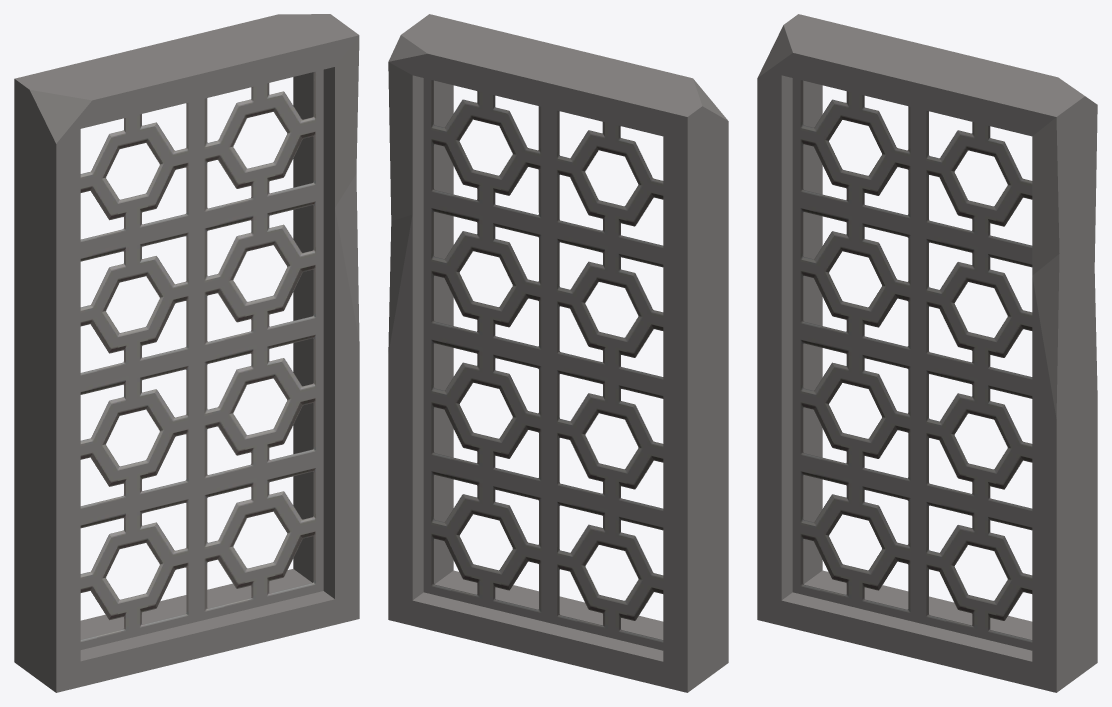
Rendered from SM_Bld_Decorative_Block_06.glb.
3 views of the same model, side by side, from view 1: azimuth 30°, elevation 25°; view 2: azimuth 150°, elevation 25°; view 3: azimuth 330°, elevation 25° (orthographic).
Visible parts, largest first — view 1: SM_Bld_Decorative_Block_06; view 2: SM_Bld_Decorative_Block_06; view 3: SM_Bld_Decorative_Block_06.
Part boxes in pixels (box(x1,y1,x2,y2)): SM_Bld_Decorative_Block_06: box(14, 14, 359, 692); SM_Bld_Decorative_Block_06: box(388, 14, 728, 692); SM_Bld_Decorative_Block_06: box(757, 14, 1097, 692).
Bounding box in the file's own units: 0.9898 × 1.82 × 0.2356.
Materials: 1 (1 with a texture image).
